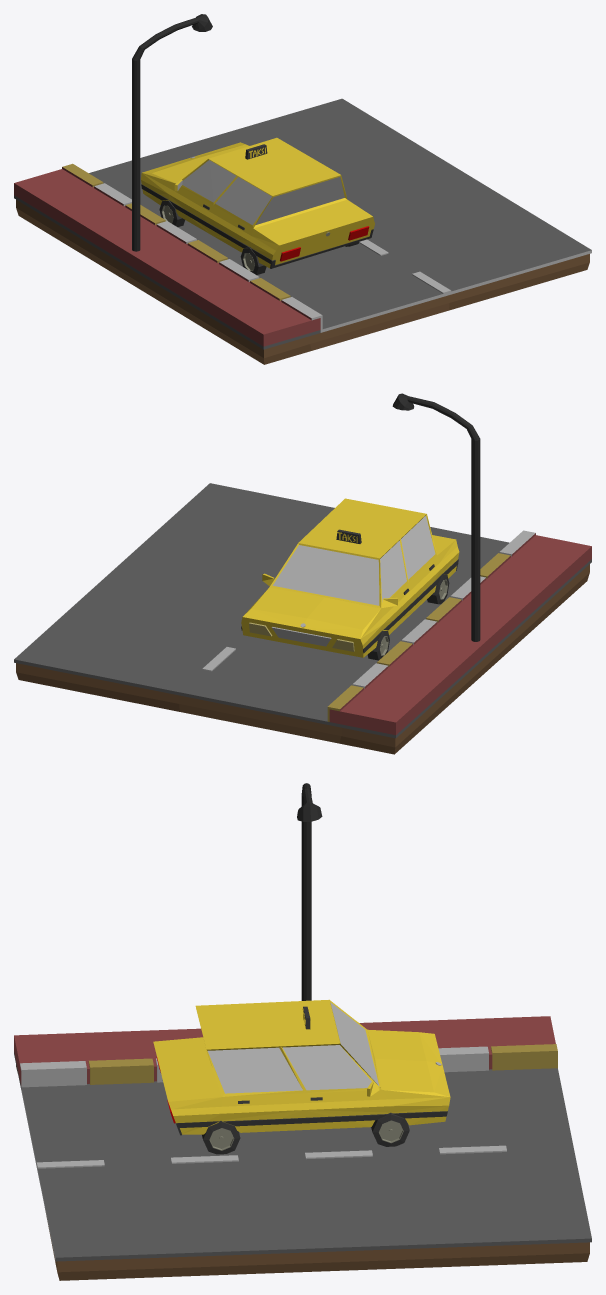
The model's file is car.fbx.fbx.
3 renders of one model, top to bottom at view 1: azimuth 30°, elevation 25°; view 2: azimuth 150°, elevation 25°; view 3: azimuth 270°, elevation 25°, orthographic. The views are drawn at different scales.
Visible parts, largest first — view 1: pCube1, araba_ma_n, pCylinder1; view 2: pCube1, araba_ma_n, pCylinder1; view 3: pCube1, araba_ma_n, pCylinder1.
Boxes of the visible parts, left/top/right/bottom form: pCube1: left=14, top=98, right=591, bottom=364; araba_ma_n: left=141, top=137, right=374, bottom=275; pCylinder1: left=132, top=14, right=212, bottom=251; pCube1: left=14, top=483, right=591, bottom=754; araba_ma_n: left=241, top=498, right=459, bottom=660; pCylinder1: left=392, top=393, right=480, bottom=641; pCube1: left=14, top=1016, right=591, bottom=1280; araba_ma_n: left=153, top=999, right=450, bottom=1154; pCylinder1: left=297, top=783, right=322, bottom=1000.
Bounding box in the file's own units: 31.19 × 19.67 × 33.59.
